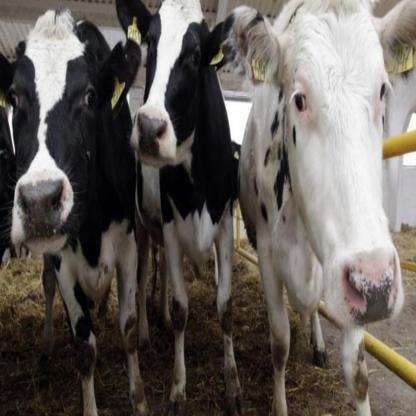cow: (241, 0, 416, 416), (0, 9, 139, 416), (115, 0, 240, 408)
